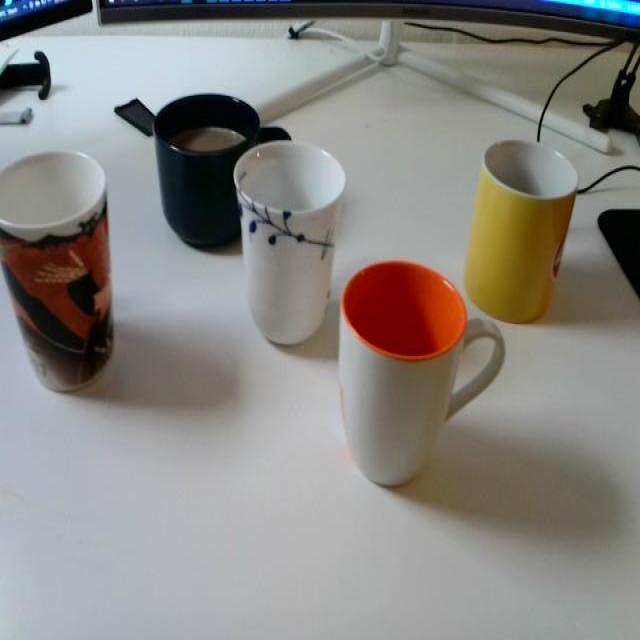cup: (329, 244, 511, 498), (0, 140, 121, 407), (230, 132, 350, 356), (459, 128, 586, 338), (148, 75, 242, 250)
